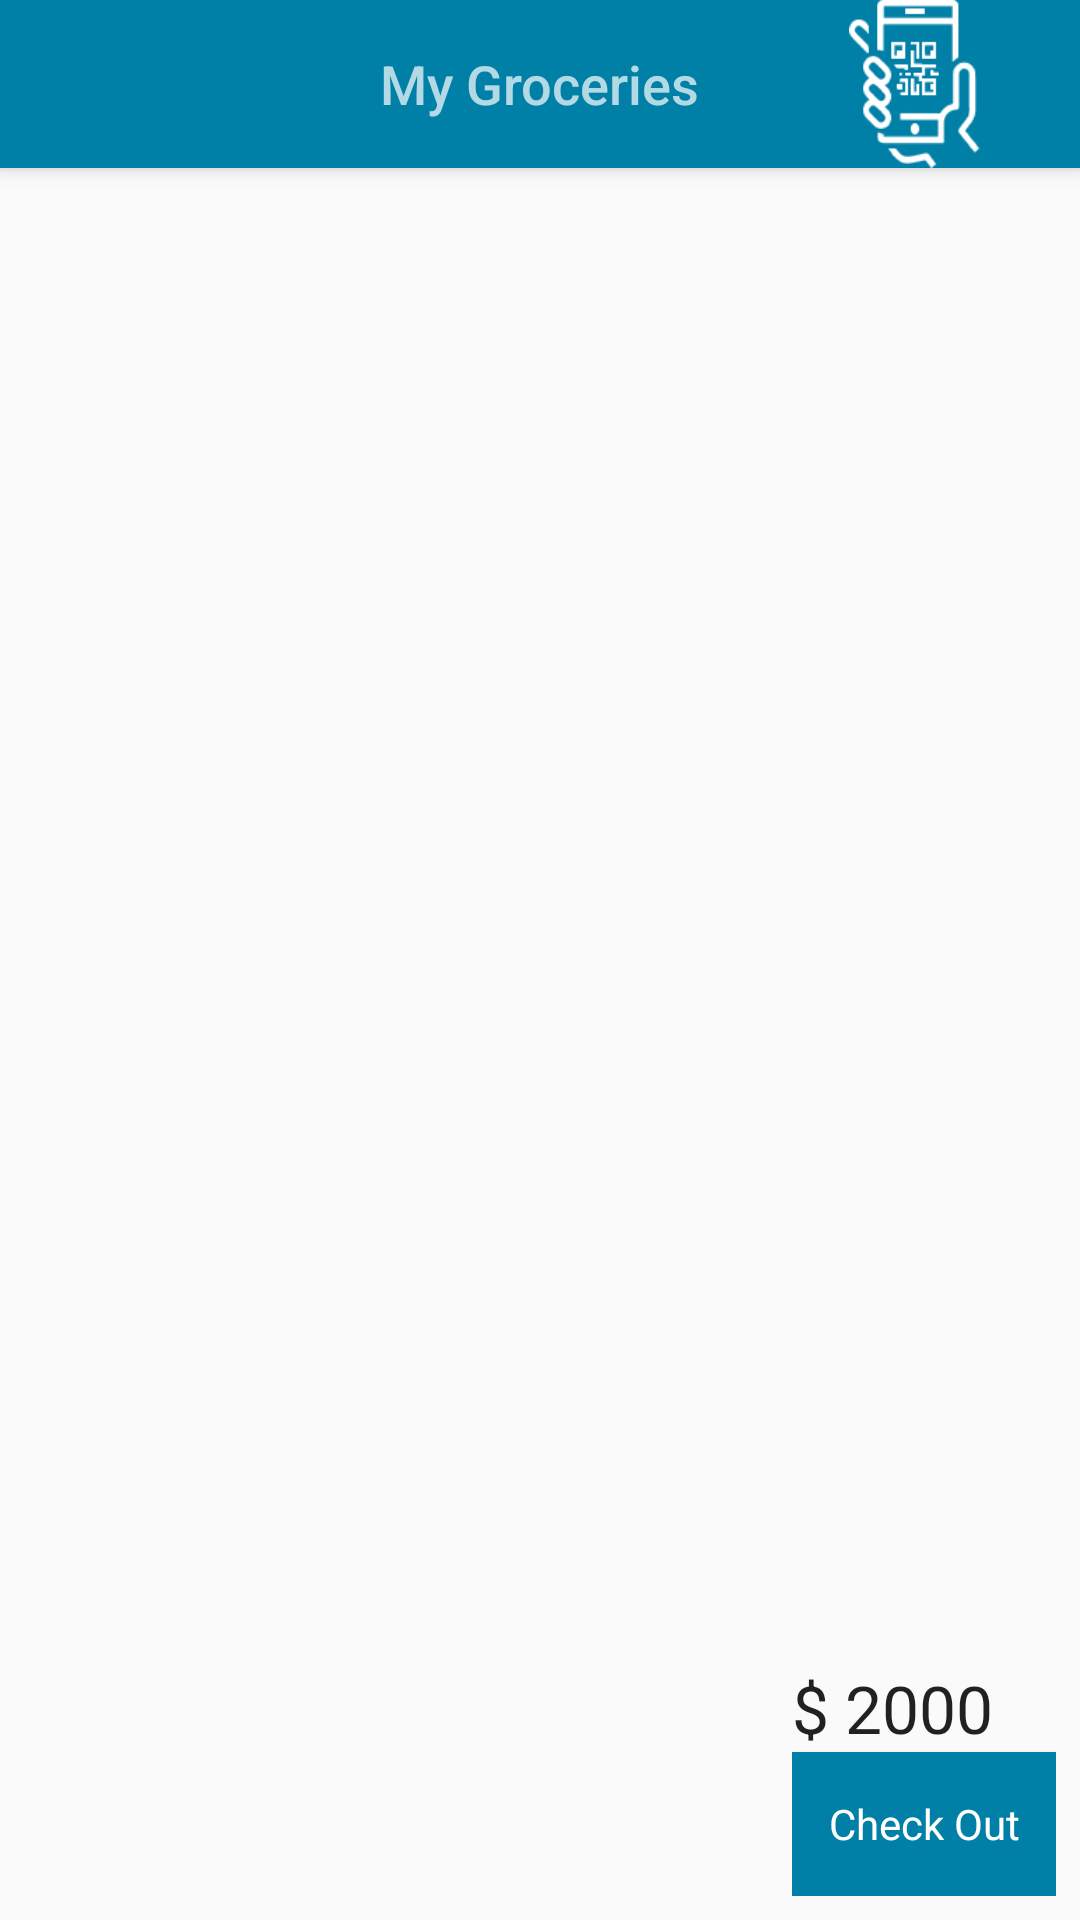

Icon bounding boxes for this 1080×1920 phone screenshot, format Rect(x1, y1, x2, y2):
phonescan: Rect(849, 0, 980, 153)
